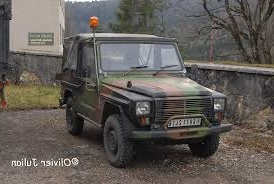license_plate: (167, 117, 203, 127)
